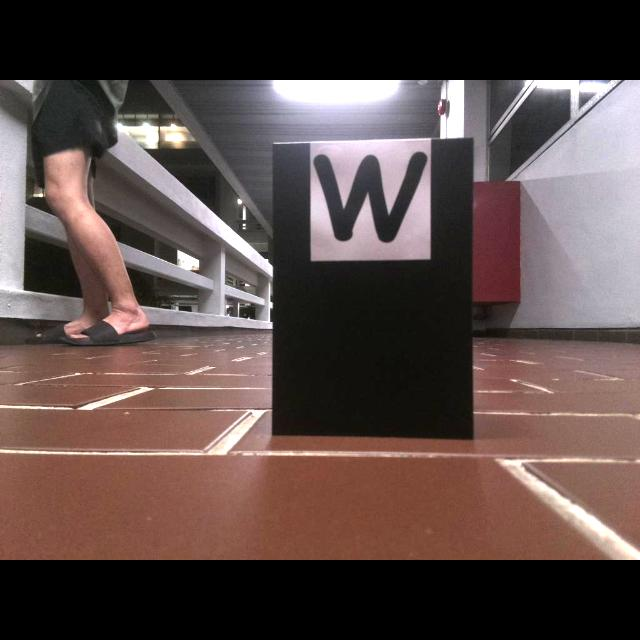W: (313, 150, 428, 243)
